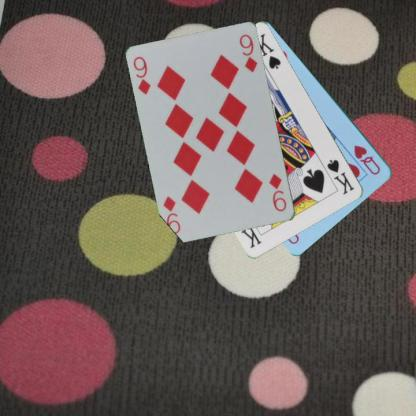9d: (266, 171, 288, 213), (130, 54, 152, 96)
Ks: (325, 156, 356, 196)
Qh: (351, 142, 382, 176)
